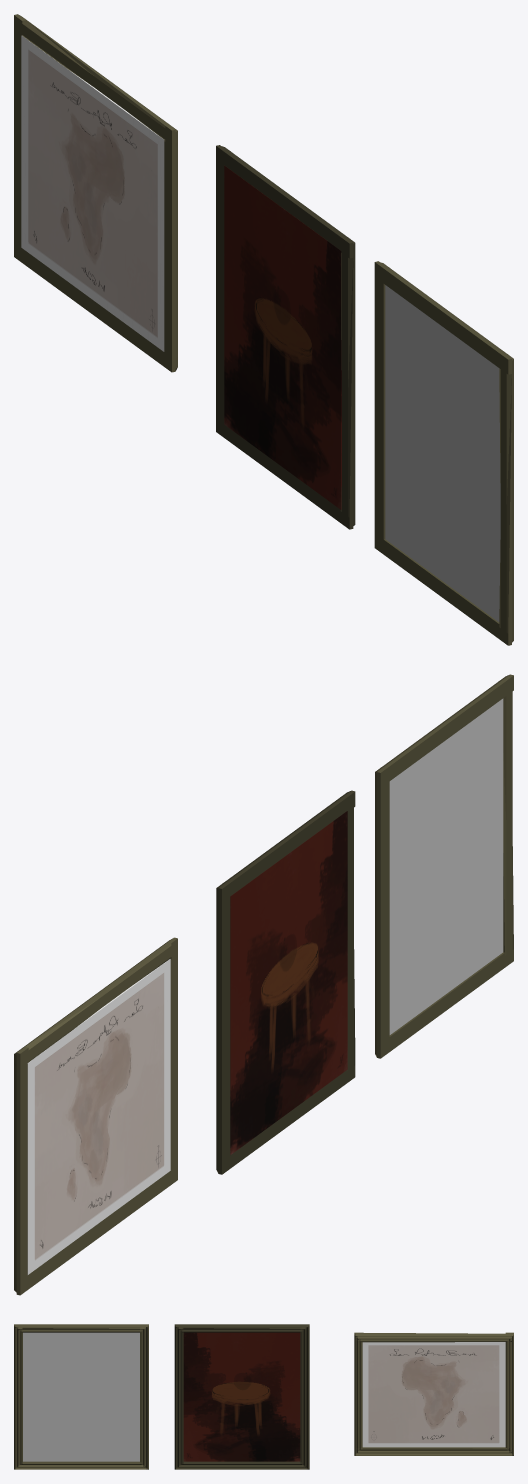
File: ArtworkAssets.fbx
The picture shows the model from 3 angles, top to bottom: view 1: azimuth 30°, elevation 25°; view 2: azimuth 150°, elevation 25°; view 3: azimuth 270°, elevation 25°; orthographic projection. The views are drawn at different scales.
Visible parts, largest first — view 1: Art3, Art2, Art1, Cube, Cube.001, Cube.002; view 2: Art3, Art2, Art1, Cube, Cube.001, Cube.002; view 3: Art2, Art3, Art1, Cube.001, Cube.002, Cube.
Part boxes in pixels (box(x1,y1,x2,y2)): Art3: box(21, 35, 164, 351); Art2: box(224, 165, 341, 509); Art1: box(385, 285, 500, 622); Cube: box(374, 261, 513, 645); Cube.001: box(216, 145, 355, 529); Cube.002: box(14, 14, 177, 372); Art3: box(27, 959, 170, 1274); Art2: box(230, 811, 347, 1154); Art1: box(389, 698, 503, 1034); Cube: box(375, 674, 513, 1058); Cube.001: box(216, 790, 355, 1174); Cube.002: box(14, 937, 177, 1295); Art2: box(183, 1332, 300, 1461); Art3: box(362, 1342, 505, 1447); Art1: box(23, 1332, 139, 1461); Cube.001: box(174, 1324, 309, 1469); Cube.002: box(354, 1332, 513, 1455); Cube: box(14, 1324, 148, 1469).
Size of the model in its own units: 21.8 by 800 by 2506.
